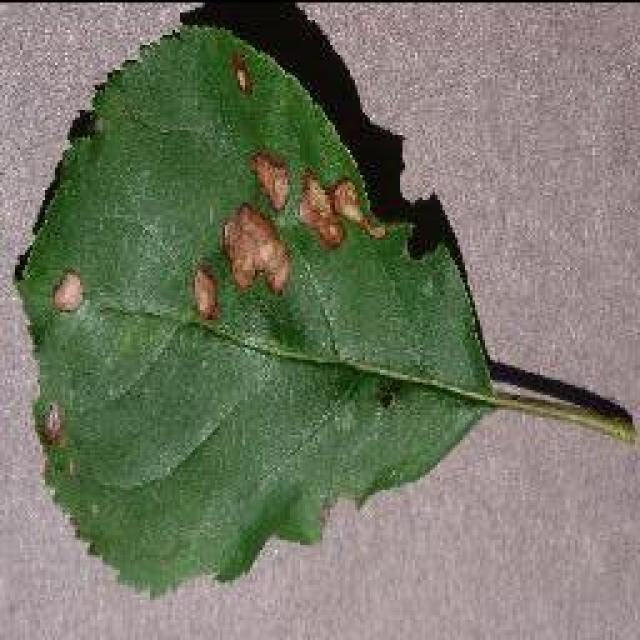Black_rot: (10, 18, 638, 600)
